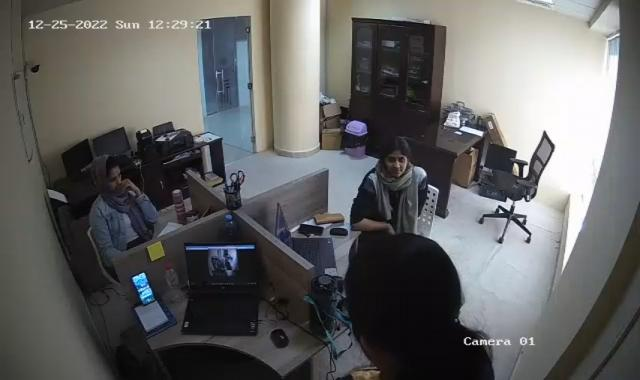no_hairnet: (342, 232, 468, 373), (90, 154, 122, 187), (383, 136, 407, 178)
